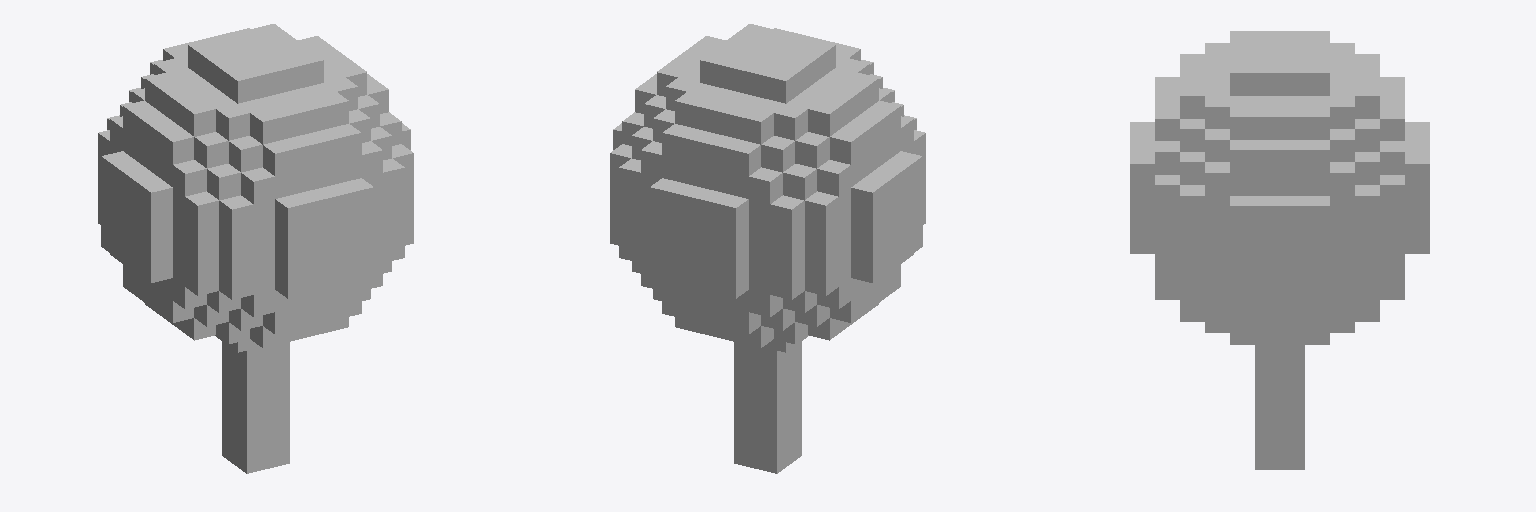
The model's file is tree_circle.obj.
3 views of the same model, side by side, from view 1: azimuth 30°, elevation 25°; view 2: azimuth 150°, elevation 25°; view 3: azimuth 270°, elevation 25° (orthographic).
Visible parts, largest first — view 1: object 1; view 2: object 1; view 3: object 1.
Part boxes in pixels (x1,y1,x2,y2): object 1: (98,24,413,473); object 1: (610,24,925,473); object 1: (1130,31,1429,469).
Size of the model in its own units: 1.2 by 1.8 by 1.2.